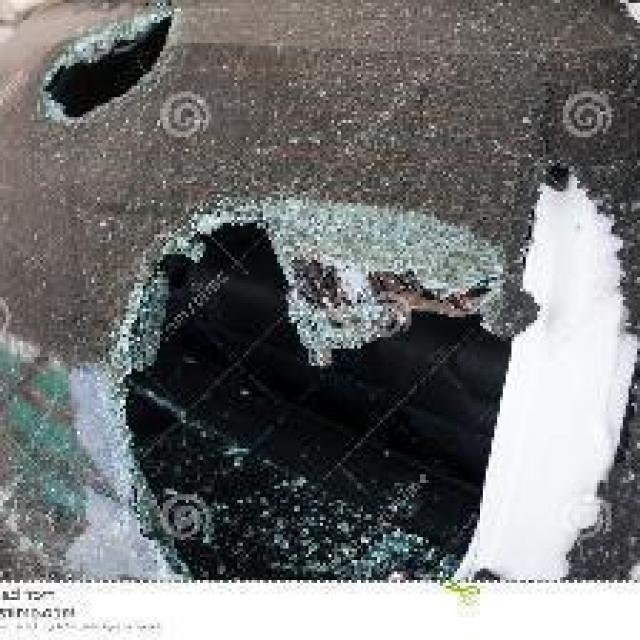damaged: (102, 186, 638, 583), (23, 5, 200, 128)
